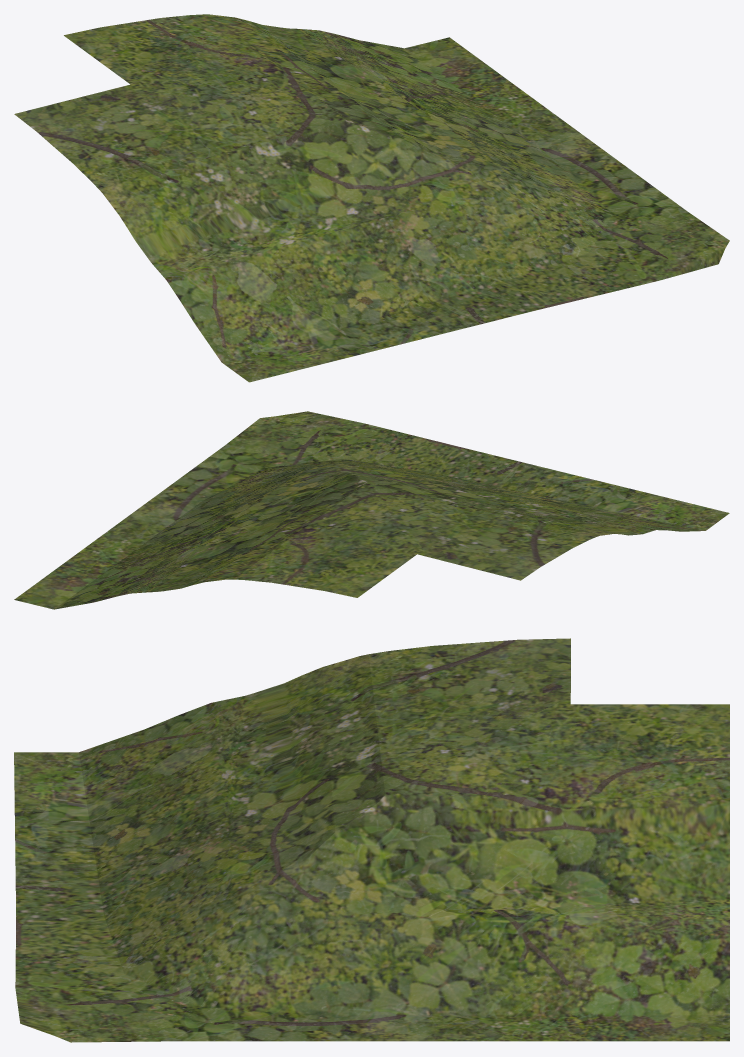
Rendered from GrassTurn.fbx.
3 views of the same model, one above another, from view 1: azimuth 30°, elevation 25°; view 2: azimuth 150°, elevation 25°; view 3: azimuth 270°, elevation 25° (orthographic). The views are drawn at different scales.
Visible parts, largest first — view 1: GrassSlope_Turn_doneExport; view 2: GrassSlope_Turn_doneExport; view 3: GrassSlope_Turn_doneExport.
Part boxes in pixels (x1,y1,x2,y2): GrassSlope_Turn_doneExport: (14,14,729,382); GrassSlope_Turn_doneExport: (14,411,729,609); GrassSlope_Turn_doneExport: (14,638,729,1042).
Size of the model in its own units: 416 by 76.65 by 432.
Materials: 1 (1 with a texture image).
